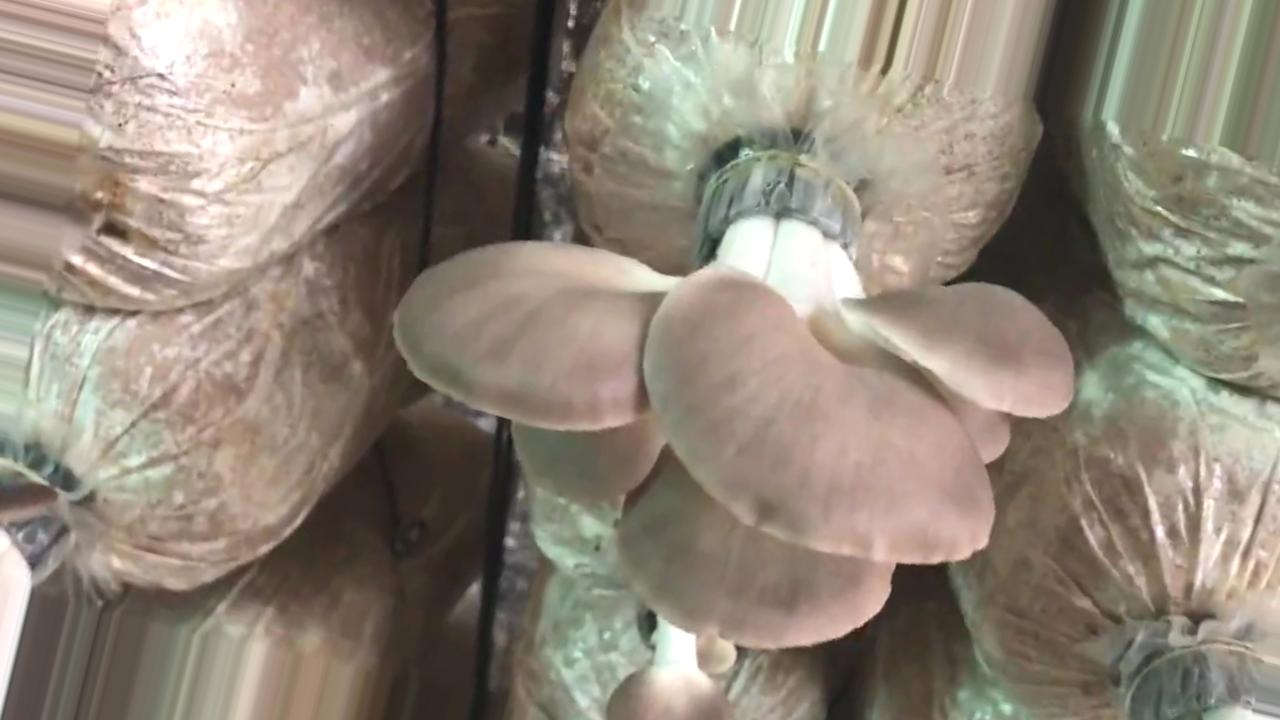nam: (393, 157, 1075, 647), (609, 606, 741, 720)
